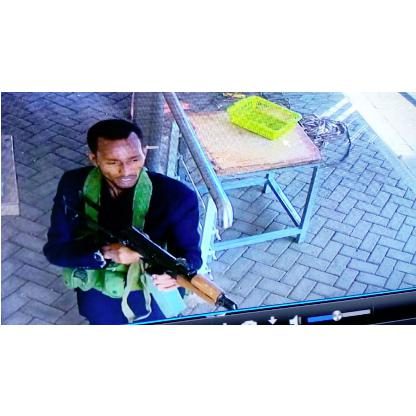gun: (47, 196, 241, 314)
